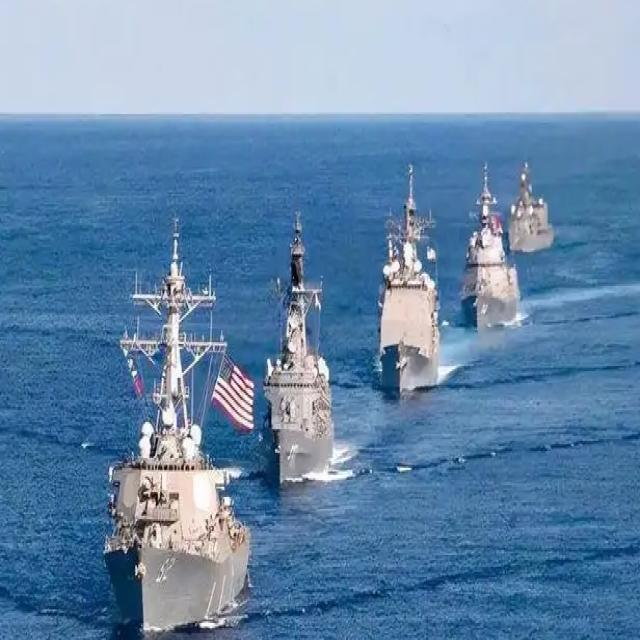navalvessels: (100, 209, 254, 636), (262, 209, 338, 489), (374, 164, 443, 398), (460, 162, 519, 334), (506, 157, 556, 254)
